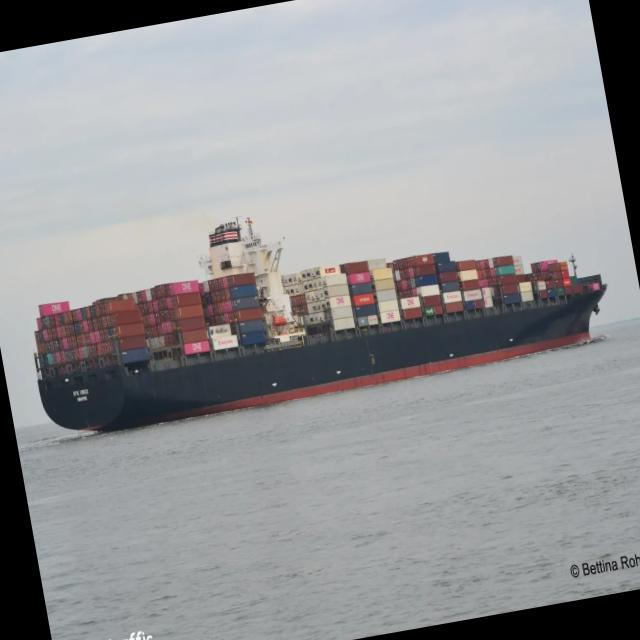Cargo: (34, 220, 606, 431)
